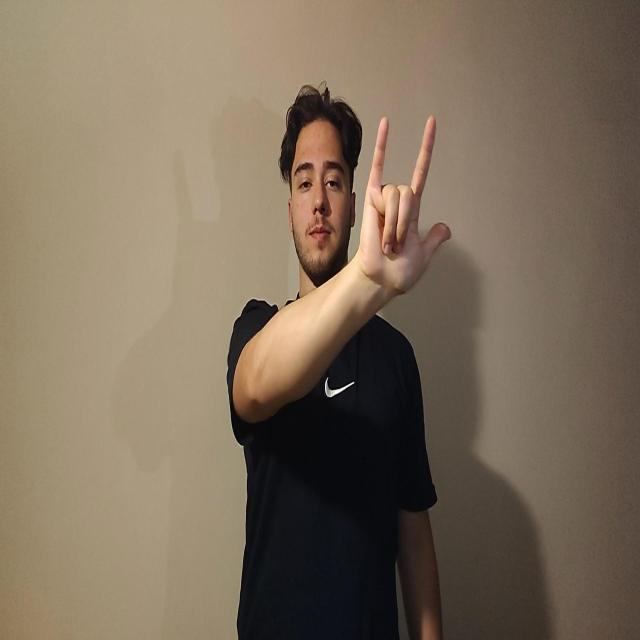iloveyou: (357, 113, 451, 298)
